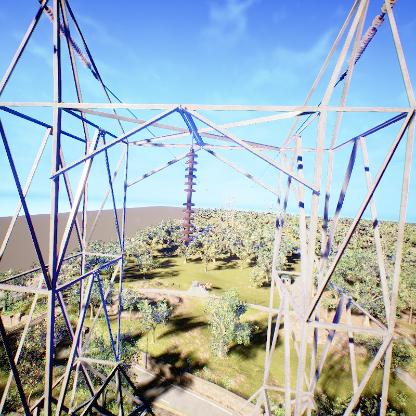insulator: (179, 151, 200, 243)
